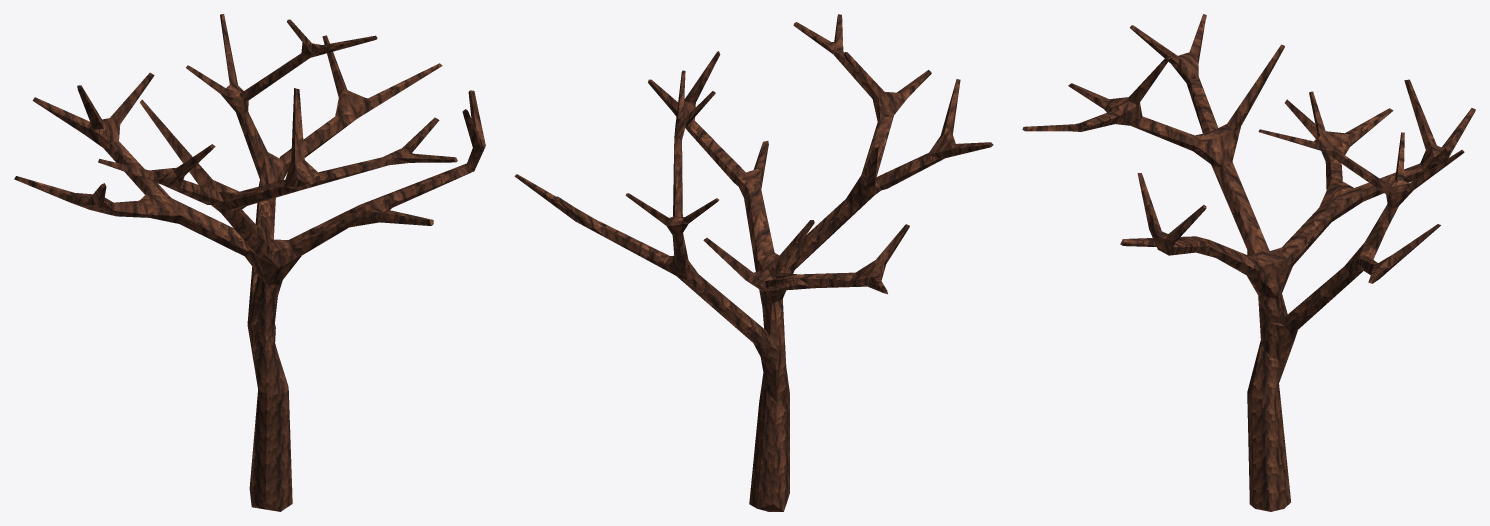
Rendered from dtree_bare_5.glb.
3 renders of one model, left to right at view 1: azimuth 30°, elevation 25°; view 2: azimuth 150°, elevation 25°; view 3: azimuth 270°, elevation 25°, orthographic. The views are drawn at different scales.
Parts seen in each view (by area): view 1: model; view 2: model; view 3: model.
Boxes of the visible parts, <box> form: model: <box>14,14,485,511</box>; model: <box>514,14,993,511</box>; model: <box>1022,14,1475,511</box>.
Bounding box in the file's own units: 6.74 × 6.97 × 6.49.
1 material, 1 textured.
